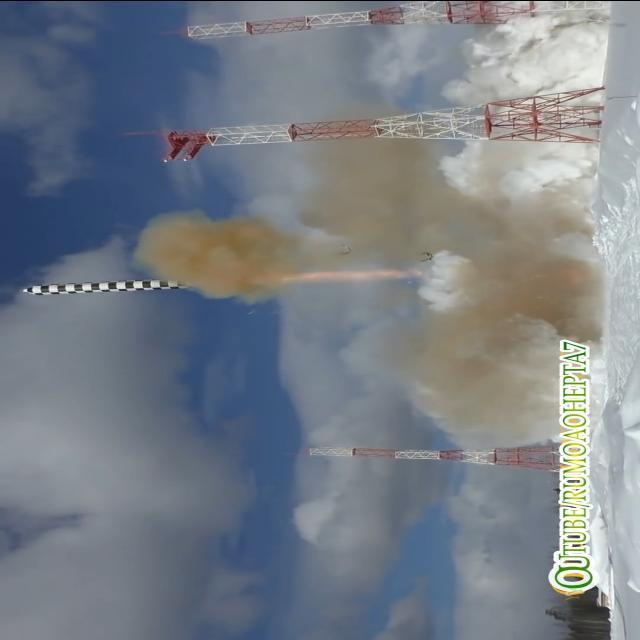Missile: (16, 270, 188, 298)
